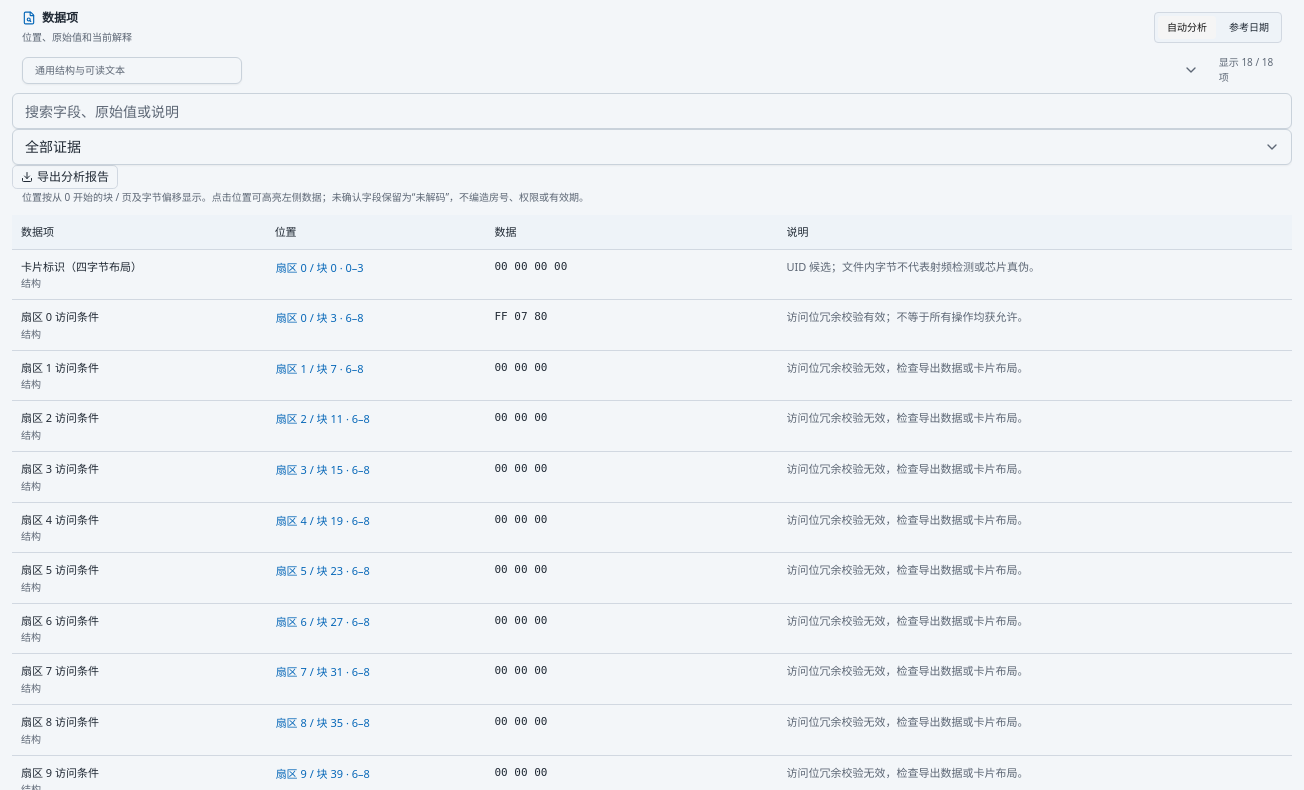
Test: reports unavailable local download APIs without claiming a saved report
Click the button "导出分析报告" at x=65, y=177, box [12,165,118,189]
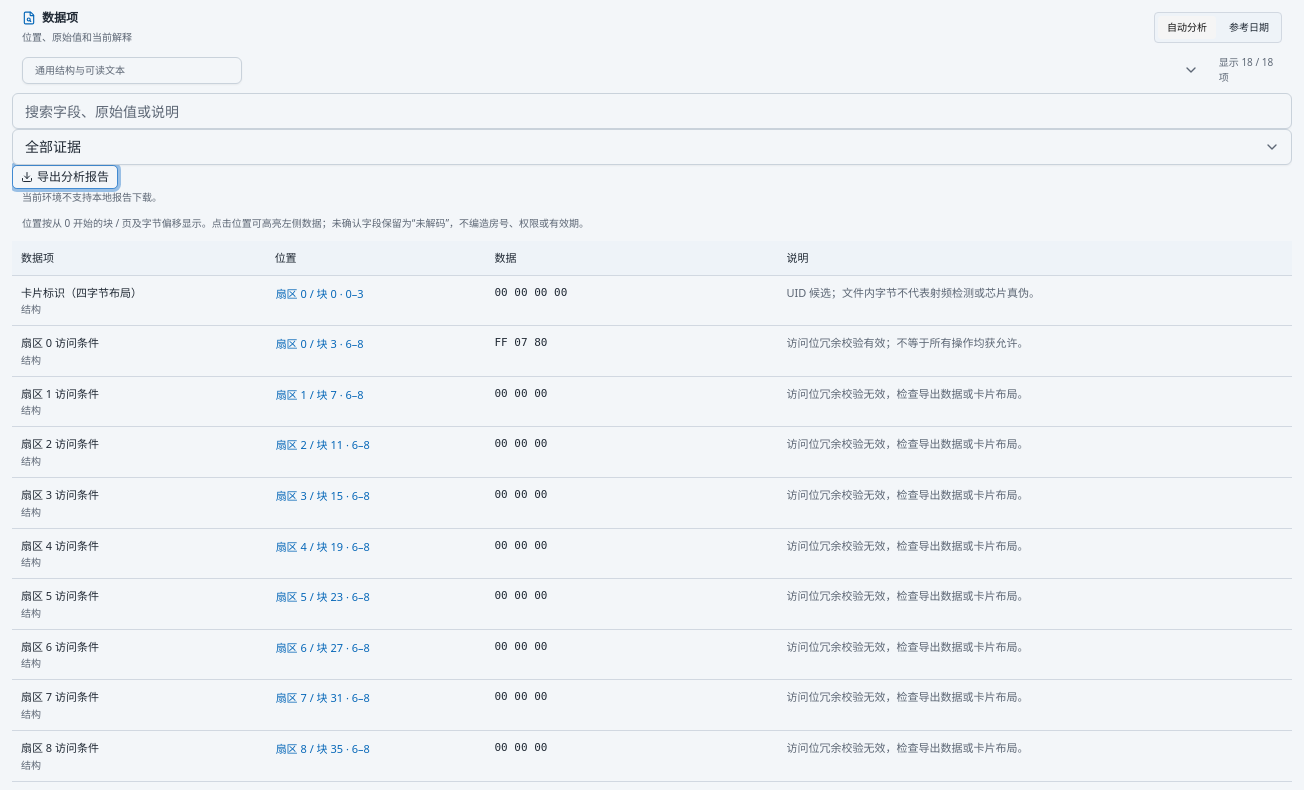
Result: the message named "报告导出状态" shows "不支持" at [22,190,162,204]
